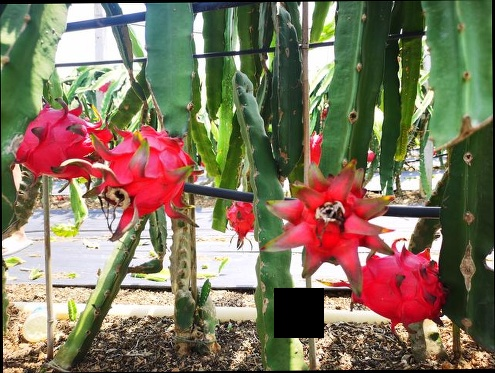pitaya: (266, 167, 390, 271), (346, 248, 445, 323), (106, 124, 189, 209), (17, 104, 114, 176), (226, 199, 256, 239), (300, 128, 331, 165)
